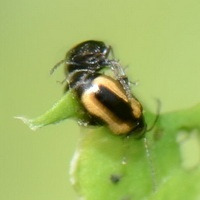insect: (36, 40, 153, 199), (16, 40, 158, 138)
